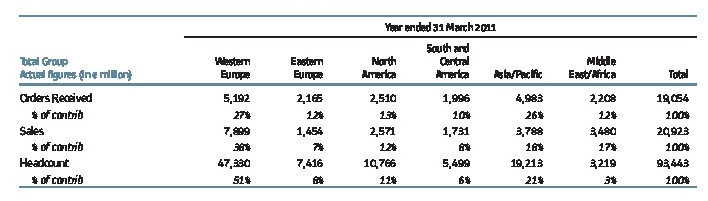table: (0, 0, 708, 201)
